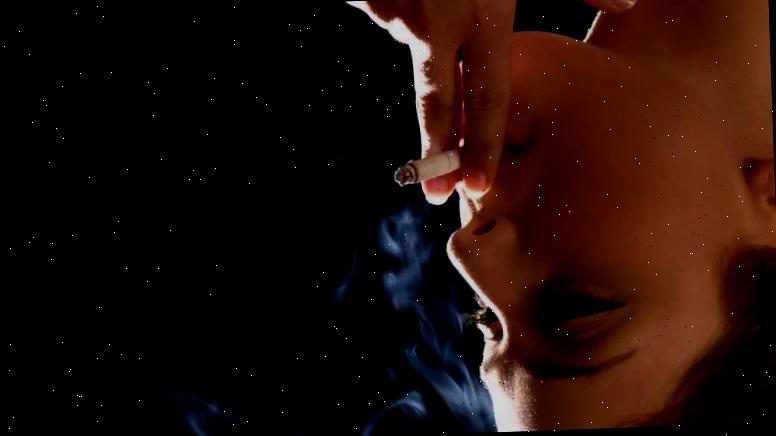smoke: (346, 207, 454, 436)
